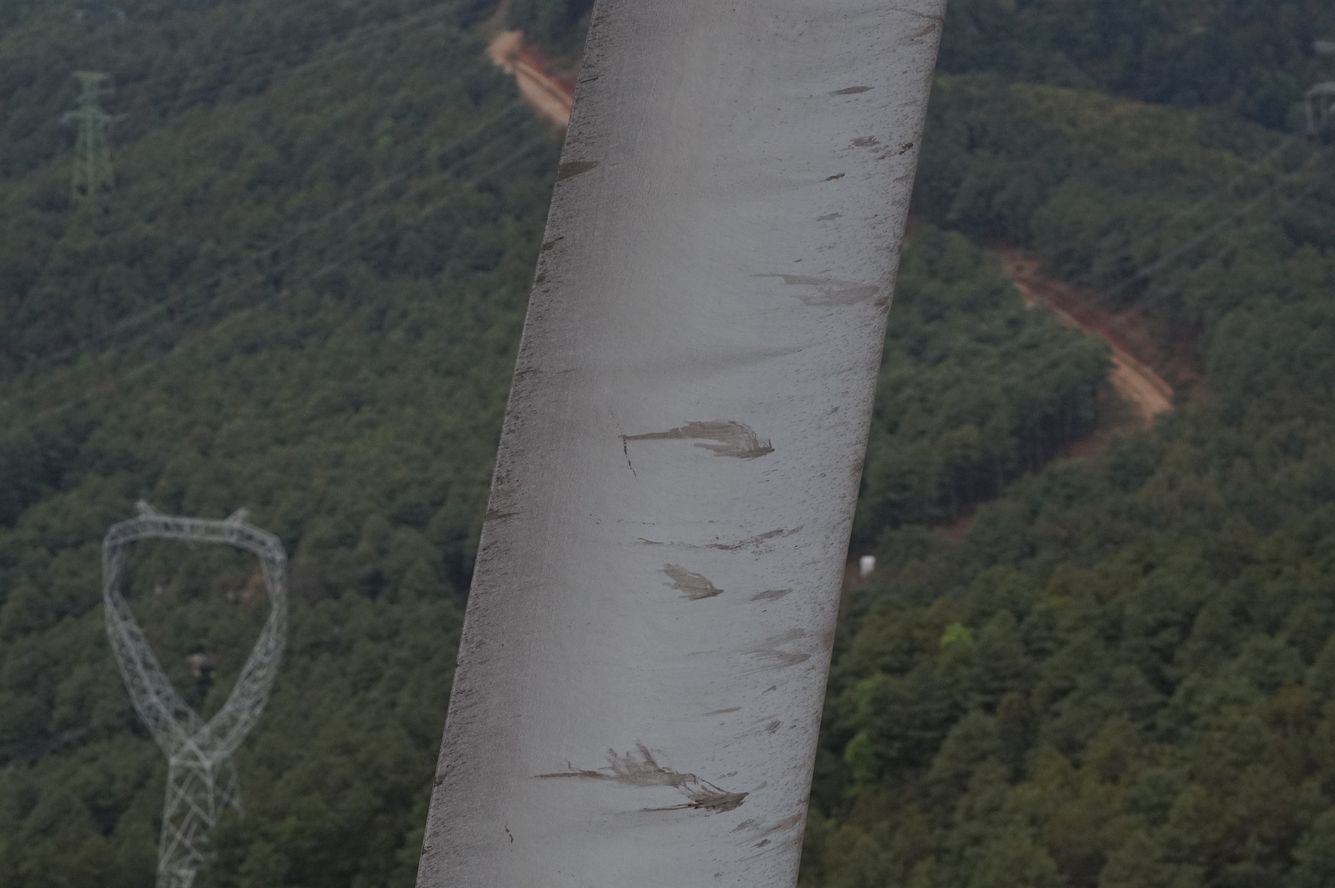Dirt: (538, 740, 753, 820), (614, 418, 778, 462), (657, 563, 728, 604)
